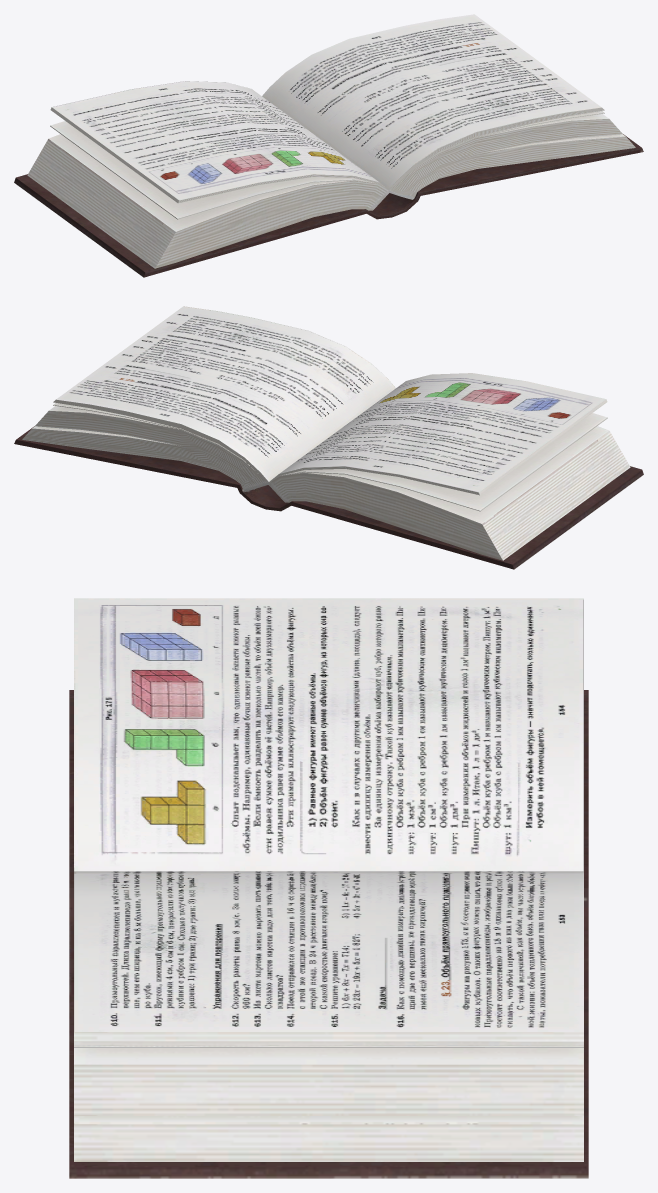
Rendered from Textbook.fbx.
3 views of the same model, one above another, from view 1: azimuth 30°, elevation 25°; view 2: azimuth 150°, elevation 25°; view 3: azimuth 270°, elevation 25° (orthographic). The views are drawn at different scales.
Parts seen in each view (by area): view 1: Textbook; view 2: Textbook; view 3: Textbook.
Boxes of the visible parts, x1,y1,x2,y2 form: Textbook: (14,14,643,277); Textbook: (14,306,643,569); Textbook: (69,598,588,1178).
Size of the model in its own units: 0.5644 by 0.0732 by 0.2536.
